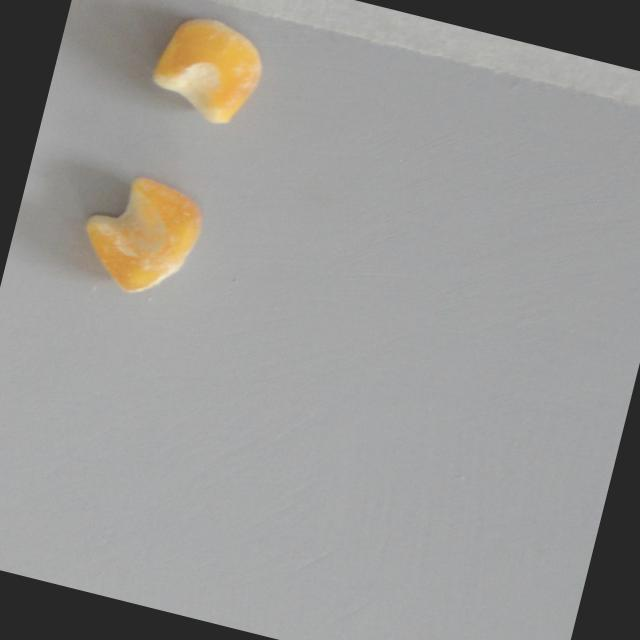pelicula: (72, 159, 213, 306), (142, 7, 272, 133)
